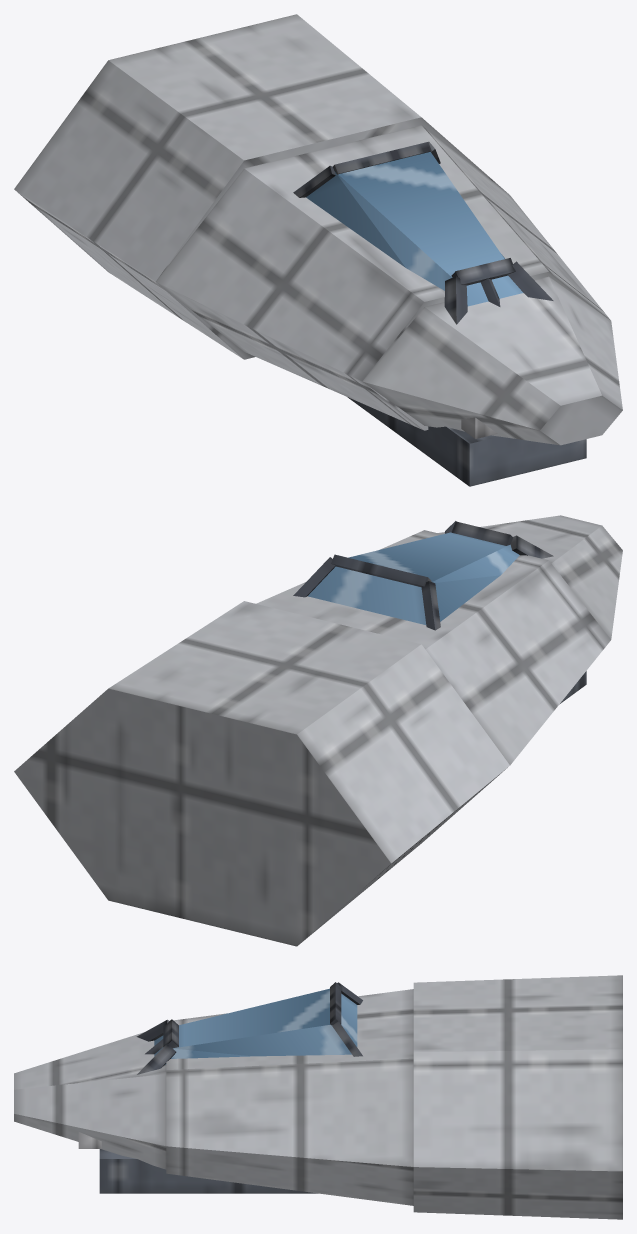
The model's file is ship_cockpit.obj.
3 views of the same model, one above another, from view 1: azimuth 30°, elevation 25°; view 2: azimuth 150°, elevation 25°; view 3: azimuth 270°, elevation 25° (orthographic). The views are drawn at different scales.
Parts seen in each view (by area): view 1: nose, canopy, chin, frame; view 2: nose, canopy, frame; view 3: nose, canopy, chin, frame.
Boxes of the visible parts, x1,y1,x2,y2 form: nose: [14, 14, 622, 445]; canopy: [306, 152, 523, 306]; chin: [347, 397, 586, 486]; frame: [293, 141, 553, 324]; nose: [14, 515, 622, 946]; canopy: [308, 532, 519, 624]; frame: [293, 521, 553, 630]; nose: [14, 975, 622, 1219]; canopy: [154, 988, 357, 1064]; chin: [99, 1149, 317, 1193]; frame: [136, 982, 362, 1074].
Size of the model in its own units: 1.84 by 1.06 by 3.2.
Materials: 5 (5 with a texture image).
